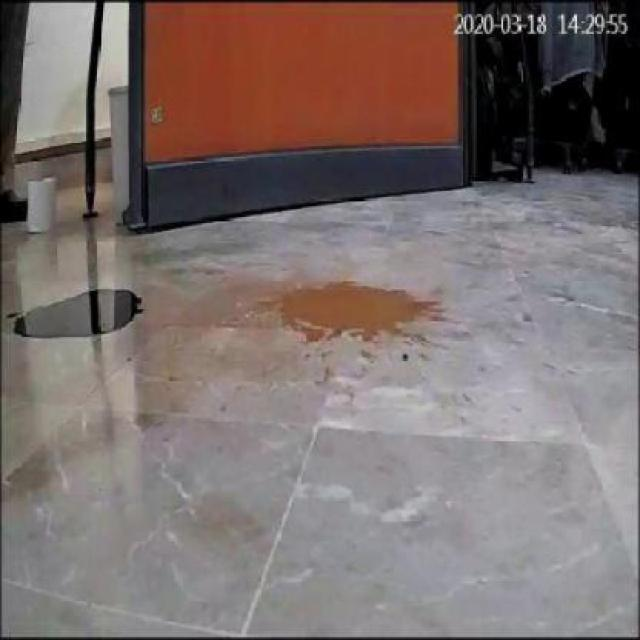spillage: (275, 284, 442, 342), (17, 289, 143, 338)
